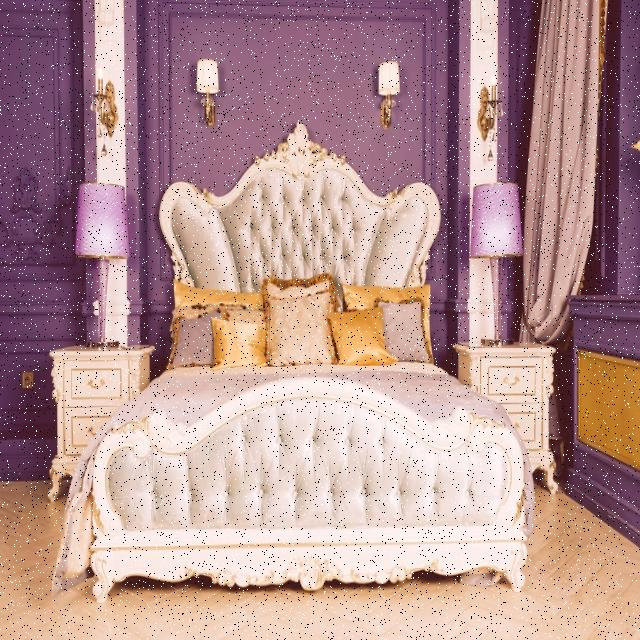bed: (49, 269, 535, 604)
